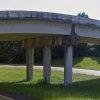Bridge: (4, 6, 99, 58)
